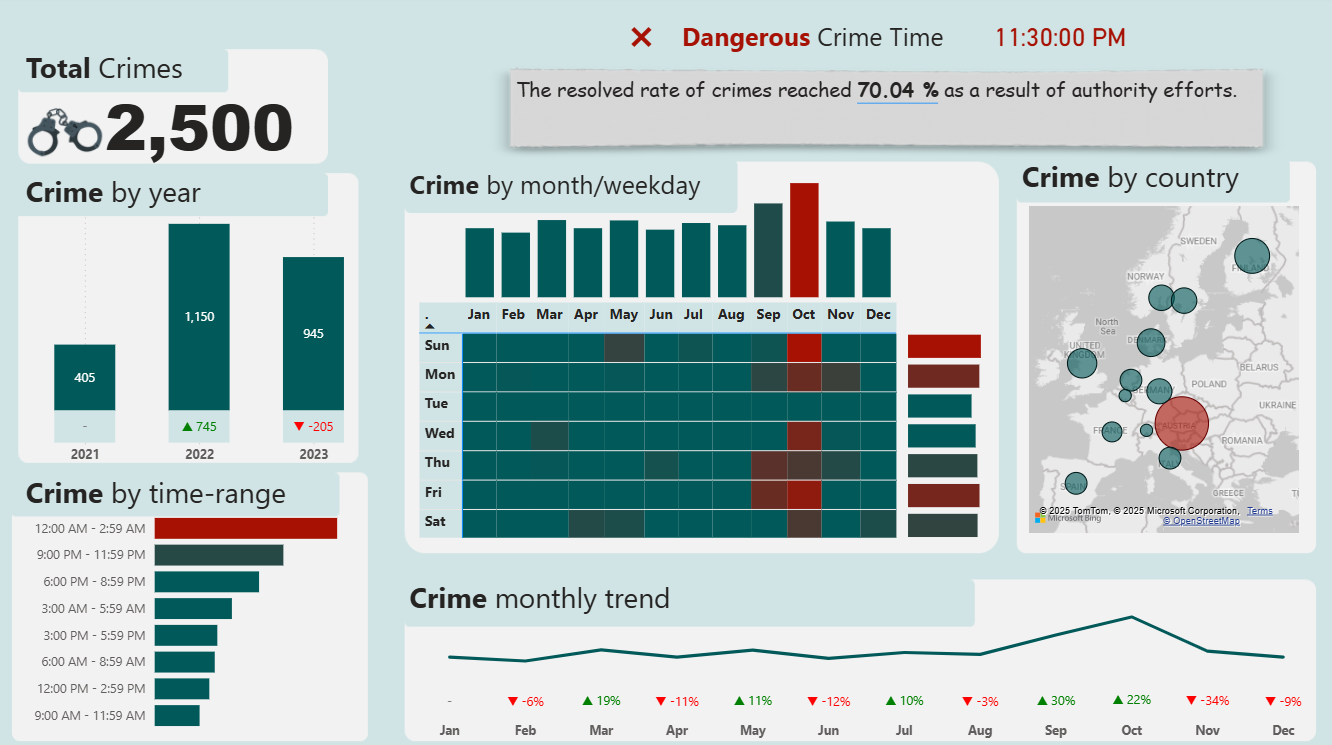

The page's visual inventory and layout, read from the dashboard file:
{"tool":"powerbi","page":{"name":"Report","canvas":[1280,720],"ordinal":0},"visuals":[{"type":"columnChart","fields":{"Category":["DateTable.Year"],"Y":["Calculations.Blank Measure (Year)","Calculations.Total Crimes"]},"box":[53.2,196.4,285.9,260.1],"z":0},{"type":"lineChart","fields":{"Category":["DateTable.Month"],"Y":["Calculations.Blank Measure (Month)","Calculations.Total Crimes"]},"box":[401,550,861.6,169.3],"z":1000},{"type":"clusteredBarChart","fields":{"Category":["Crimes Data.Time Group"],"Y":["Calculations.Total Crimes"]},"box":[25.7,475.5,350.9,237.1],"z":2000},{"type":"pivotTable","fields":{"Rows":["DateTable.Weekday"],"Columns":["DateTable.Month"],"Values":["Calculations.Total Crimes"]},"box":[401.6,288.6,497.9,243.3],"z":3000},{"type":"clusteredColumnChart","fields":{"Y":["Calculations.Total Crimes"],"Category":["DateTable.Month"]},"box":[445.7,133.5,415.4,160.7],"z":4000},{"type":"clusteredBarChart","fields":{"Y":["Calculations.Total Crimes"],"Category":["DateTable.Weekday"]},"box":[867.1,310.2,84,211.3],"z":5000},{"type":"textbox","box":[493.1,71.8,738.4,85.4],"z":6000},{"type":"map","fields":{"Category":["Crimes Data.Country"],"Size":["Calculations.Total Crimes"]},"box":[982.2,196.4,266.9,321.1],"z":8000},{"type":"textbox","box":[651.2,17.6,299.4,43.4],"z":9000},{"type":"card","fields":{"Values":["Calculations.Cross"]},"box":[584.8,8.1,66.4,52.8],"z":10000},{"type":"card","fields":{"Values":["Min(Crimes Data.Crime Time)"]},"box":[896.3,13.1,240.1,53.5],"z":11000},{"type":"card","fields":{"Values":["Calculations.Total Crimes"]},"box":[84.3,67.7,224.9,108.4],"z":12000},{"type":"textbox","box":[25.7,44.7,201.9,52.8],"z":13000},{"type":"textbox","box":[25.7,162.6,201.9,52.8],"z":14000},{"type":"textbox","box":[25.7,449.8,273.7,52.8],"z":15000},{"type":"textbox","box":[391.5,159.9,318.4,52.8],"z":16000},{"type":"textbox","box":[391.5,550,318.4,52.8],"z":17000},{"type":"textbox","box":[975.4,149,287.2,52.8],"z":18000}]}

Visuals, with their boxes in screenshot pixels (x1, y1, x2, y2), scaled from the page's 1280x720 canvas onto the 1332x745 screenshot:
columnChart - DateTable.Year x Calculations.Blank Measure (Year): BBox(55, 203, 353, 472)
lineChart - DateTable.Month x Calculations.Blank Measure (Month): BBox(417, 569, 1314, 744)
clusteredBarChart - Crimes Data.Time Group x Calculations.Total Crimes: BBox(27, 492, 392, 737)
pivotTable - DateTable.Weekday x DateTable.Month: BBox(418, 299, 936, 550)
clusteredColumnChart - Calculations.Total Crimes x DateTable.Month: BBox(464, 138, 896, 304)
clusteredBarChart - Calculations.Total Crimes x DateTable.Weekday: BBox(902, 321, 990, 540)
textbox: BBox(513, 74, 1282, 163)
map - Crimes Data.Country x Calculations.Total Crimes: BBox(1022, 203, 1300, 535)
textbox: BBox(678, 18, 989, 63)
card - Calculations.Cross: BBox(609, 8, 678, 63)
card - Min(Crimes Data.Crime Time): BBox(933, 14, 1183, 69)
card - Calculations.Total Crimes: BBox(88, 70, 322, 182)
textbox: BBox(27, 46, 237, 101)
textbox: BBox(27, 168, 237, 223)
textbox: BBox(27, 465, 312, 520)
textbox: BBox(407, 165, 739, 220)
textbox: BBox(407, 569, 739, 624)
textbox: BBox(1015, 154, 1314, 209)
